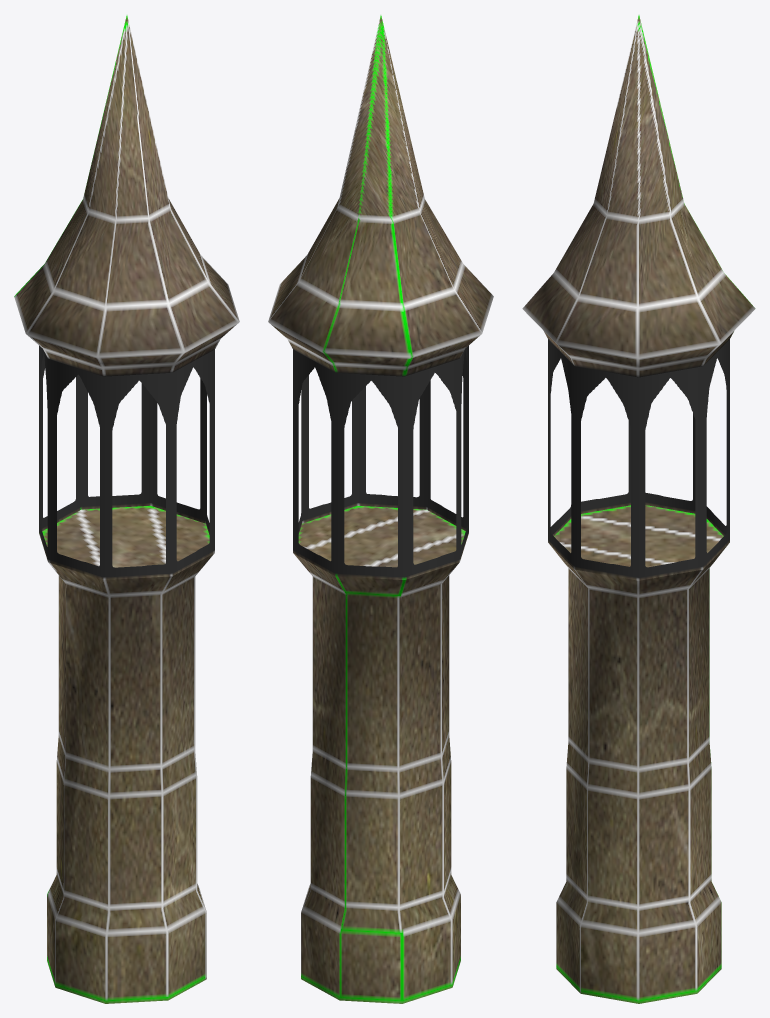
File: lantern_dead2.obj
3 views of the same model, side by side, from view 1: azimuth 30°, elevation 25°; view 2: azimuth 150°, elevation 25°; view 3: azimuth 270°, elevation 25° (orthographic).
Visible parts, largest first — view 1: Cone001; view 2: Cone001; view 3: Cone001.
Part boxes in pixels (<box>): Cone001: <box>14,15,239,1003</box>; Cone001: <box>268,15,493,1003</box>; Cone001: <box>522,15,755,1003</box>.
Bounding box in the file's own units: 406 × 1830 × 406.
Materials: 1 (1 with a texture image).
